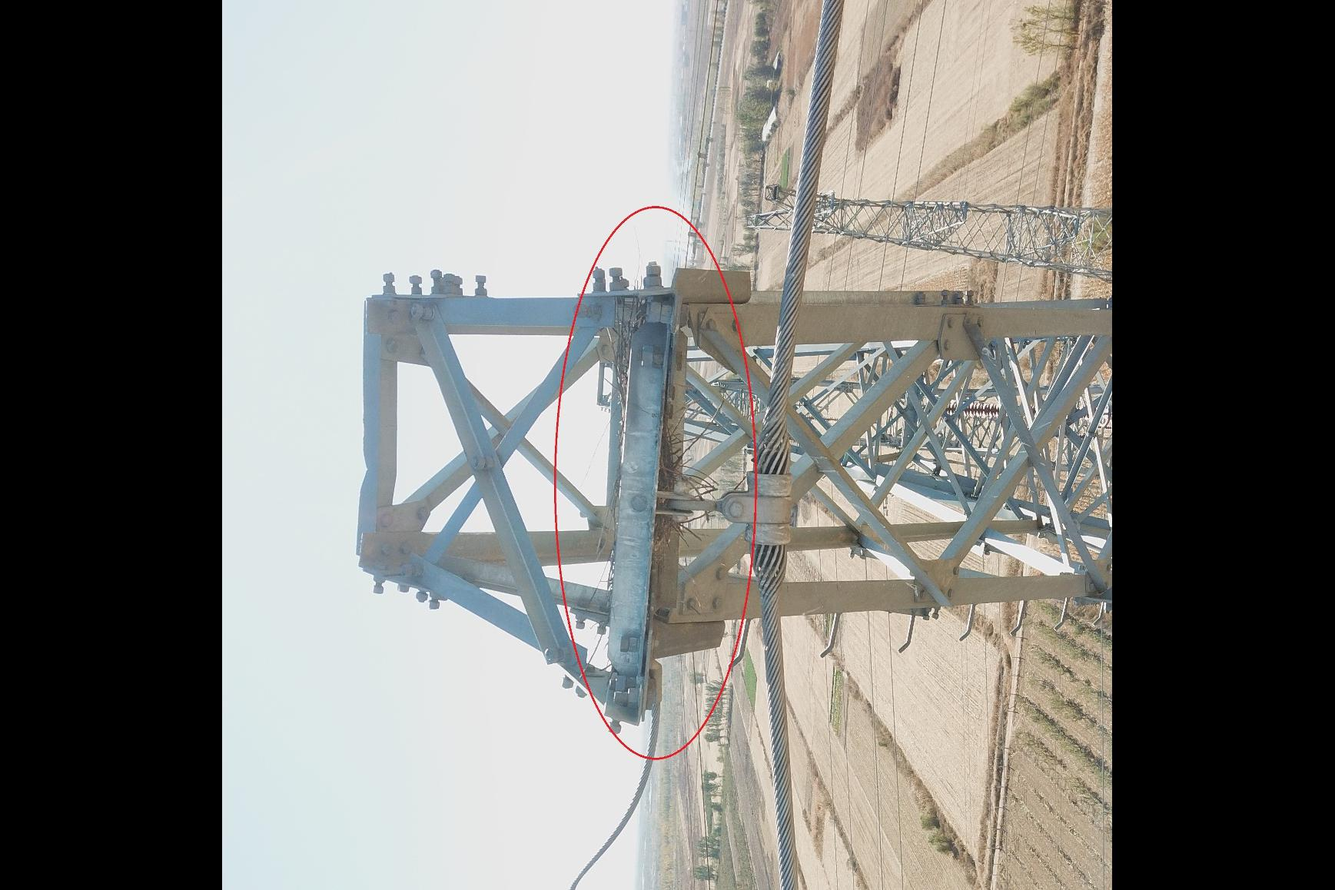nest: (589, 282, 709, 586)
